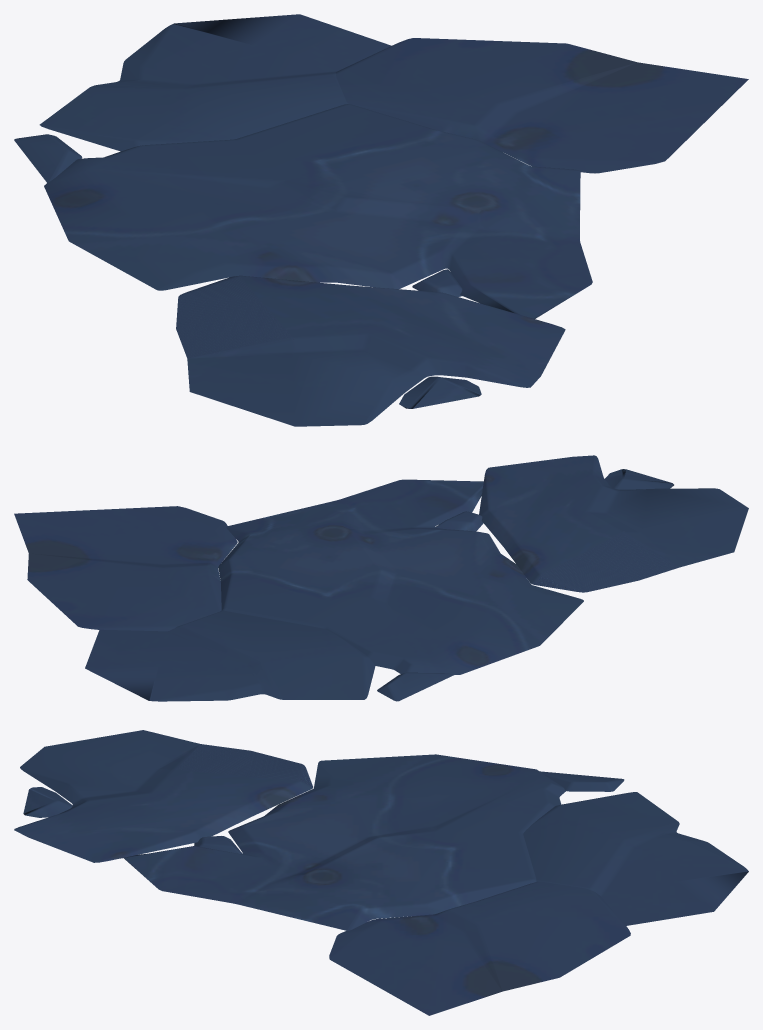
File: SM_Discord_Terrain_Chunk_04.fbx
3 views of the same model, one above another, from view 1: azimuth 30°, elevation 25°; view 2: azimuth 150°, elevation 25°; view 3: azimuth 270°, elevation 25° (orthographic). The views are drawn at different scales.
Visible parts, largest first — view 1: SM_Discord_Terrain_Chunk_04; view 2: SM_Discord_Terrain_Chunk_04; view 3: SM_Discord_Terrain_Chunk_04.
Boxes of the visible parts, x1,y1,x2,y2 form: SM_Discord_Terrain_Chunk_04: [14, 14, 748, 426]; SM_Discord_Terrain_Chunk_04: [14, 455, 748, 701]; SM_Discord_Terrain_Chunk_04: [14, 730, 748, 1015].
Size of the model in its own units: 1526 by 28.07 by 1654.
